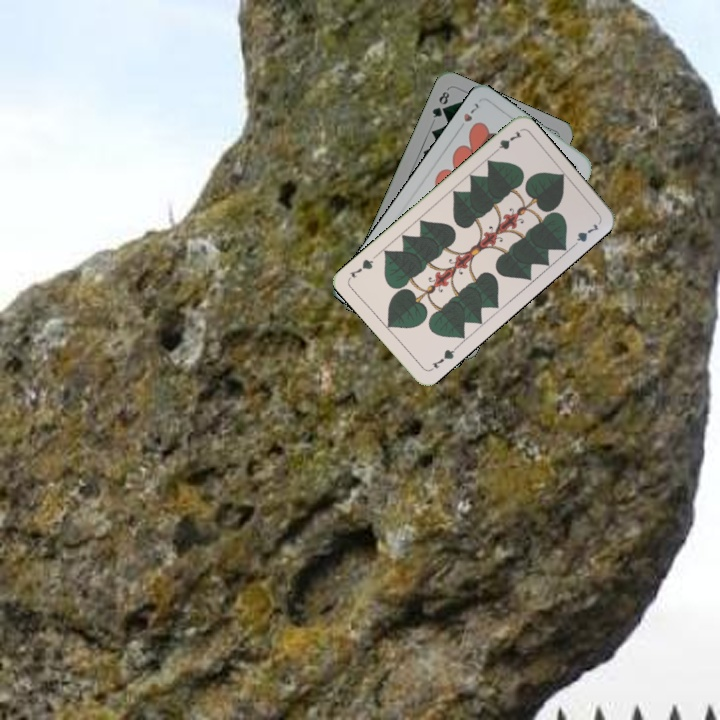G7: (488, 126, 525, 157), (426, 343, 460, 373)
G8: (428, 87, 452, 120)
H7: (459, 98, 482, 124)
